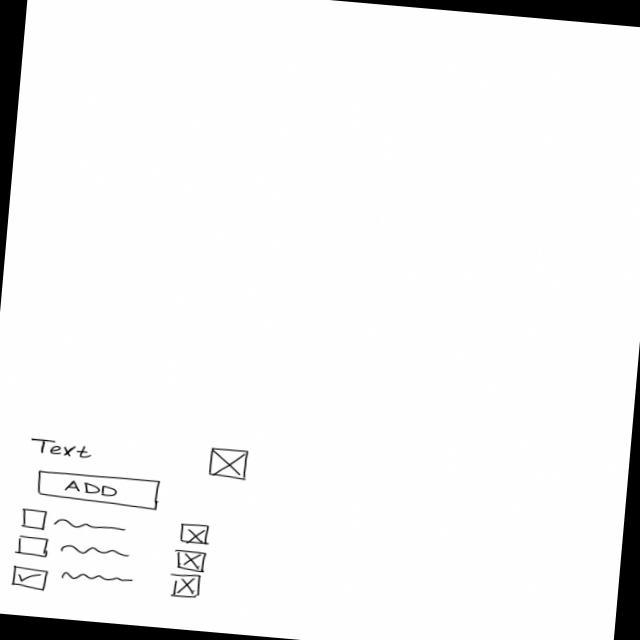button: (36, 470, 162, 513)
checkbox: (11, 565, 139, 600), (15, 535, 133, 568), (20, 509, 130, 539)
image: (208, 447, 251, 482), (177, 522, 214, 546), (174, 549, 208, 575), (172, 574, 202, 601)
label: (29, 438, 95, 462)
